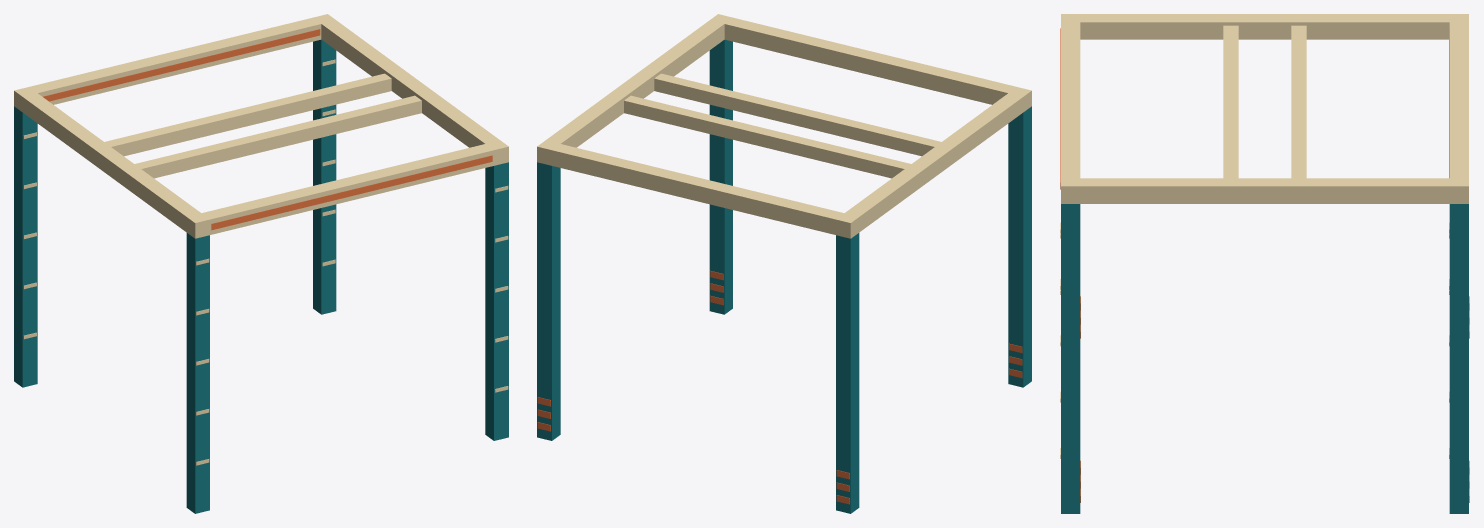
The model's file is gantry-lod-2.glb.
3 renders of one model, left to right at view 1: azimuth 30°, elevation 25°; view 2: azimuth 150°, elevation 25°; view 3: azimuth 270°, elevation 25°, orthographic. The views are drawn at different scales.
Parts seen in each view (by area): view 1: cove_gantry; view 2: cove_gantry; view 3: cove_gantry.
Boxes of the visible parts, left/top/right/bottom form: cove_gantry: left=14, top=14, right=508, bottom=513; cove_gantry: left=537, top=14, right=1031, bottom=513; cove_gantry: left=1060, top=14, right=1469, bottom=513.
Bounding box in the file's own units: 8.4 × 7.44 × 8.42.
